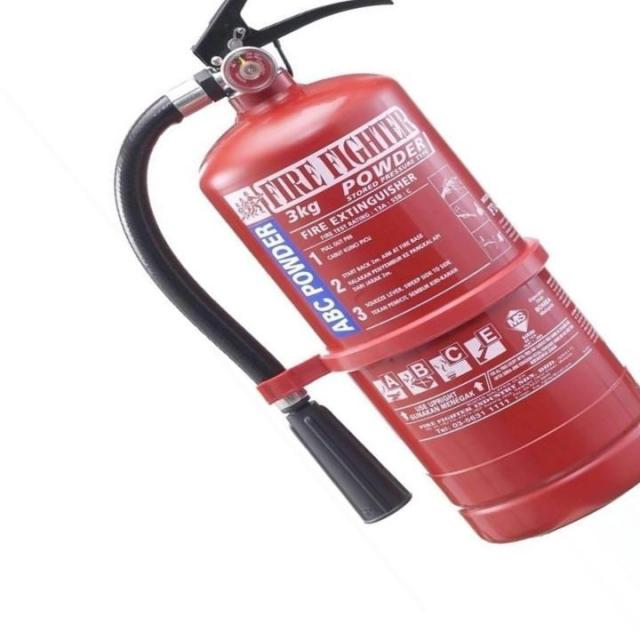fire_extinguisher: (107, 0, 639, 548)
